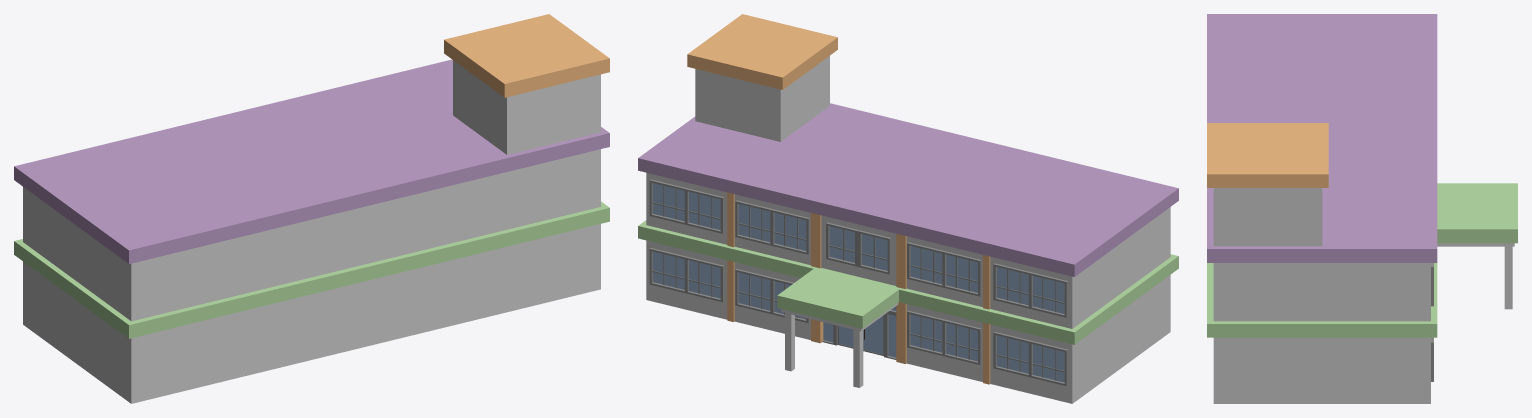
Rendered from School.fbx.
3 renders of one model, left to right at view 1: azimuth 30°, elevation 25°; view 2: azimuth 150°, elevation 25°; view 3: azimuth 270°, elevation 25°, orthographic. The views are drawn at different scales.
Parts seen in each view (by area): view 1: Cube; view 2: Cube; view 3: Cube.
Part boxes in pixels (x1,y1,x2,y2): Cube: (14, 14, 609, 403); Cube: (638, 14, 1178, 403); Cube: (1207, 14, 1517, 403).
Size of the model in its own units: 2560 by 1180 by 1430.
